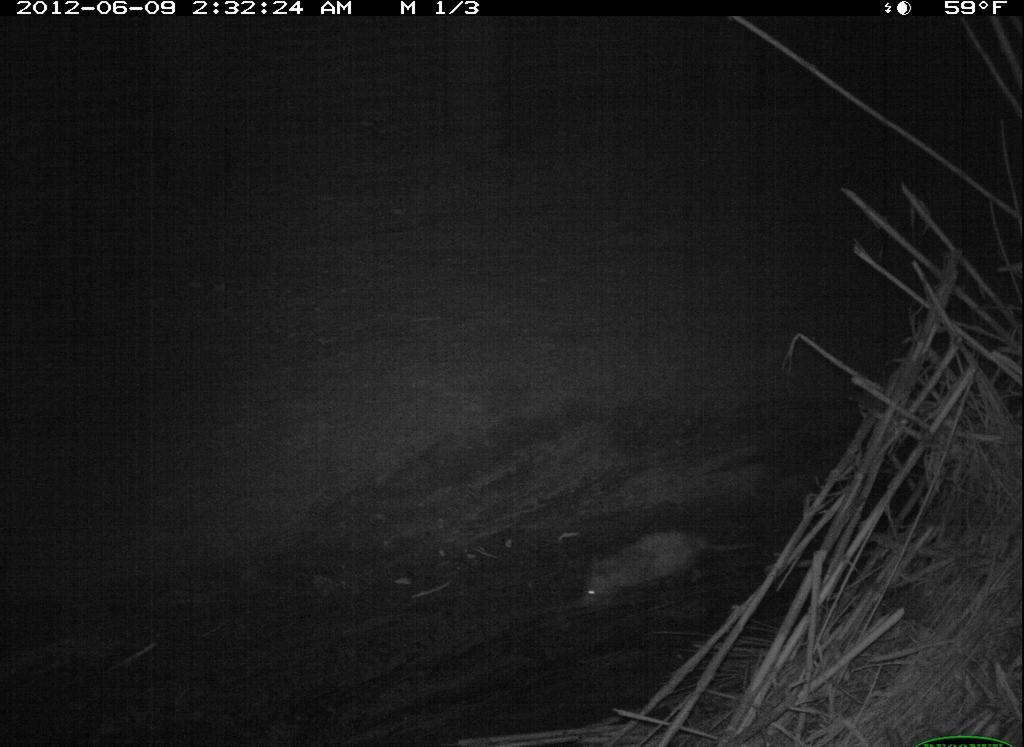opossum: (565, 514, 774, 609)
